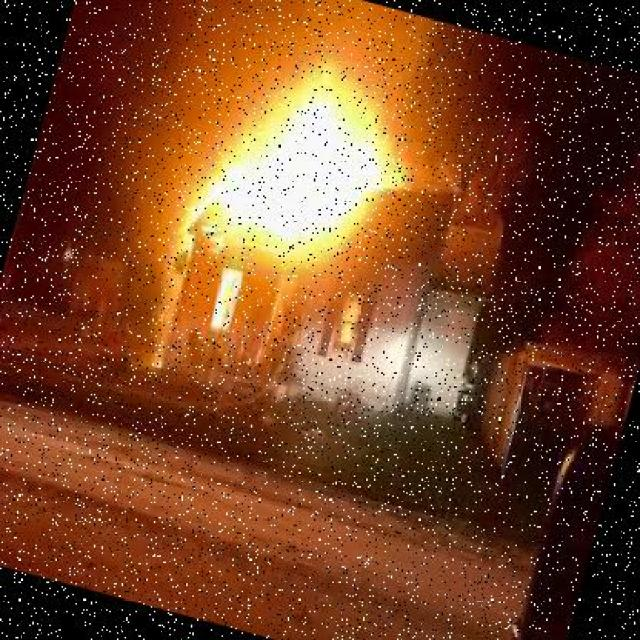fire: (174, 40, 452, 312)
